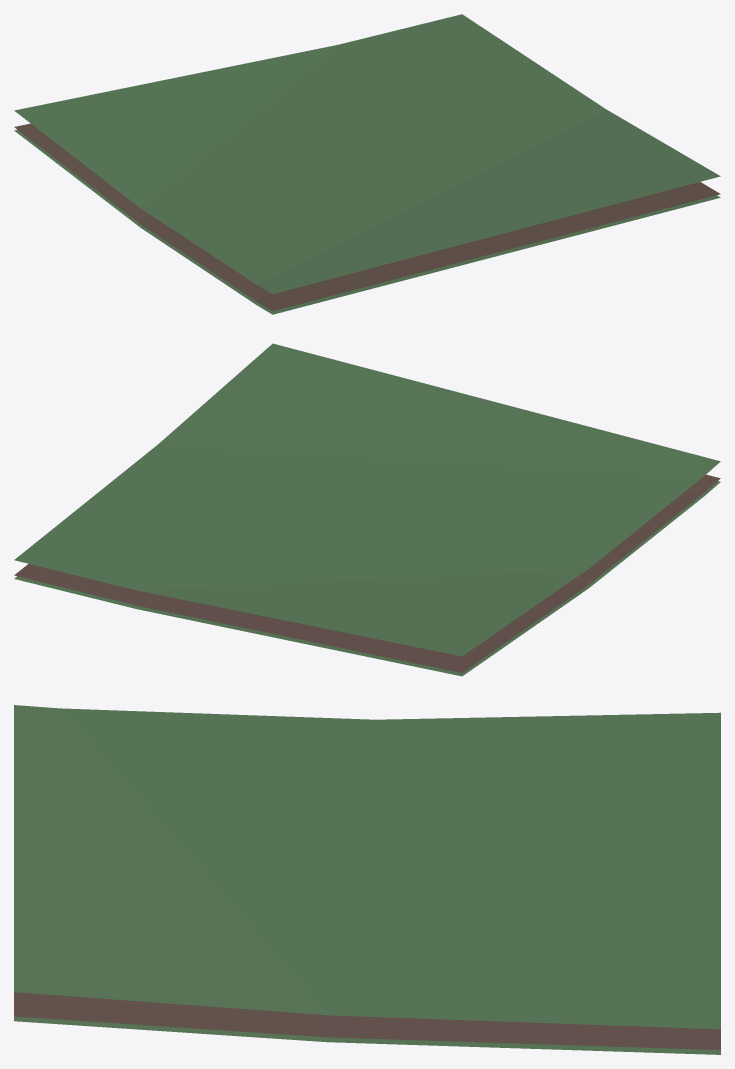
File: cell_225.obj
3 views of the same model, one above another, from view 1: azimuth 30°, elevation 25°; view 2: azimuth 150°, elevation 25°; view 3: azimuth 270°, elevation 25° (orthographic). The views are drawn at different scales.
Bounding box in the file's own units: 1 × 0.0987 × 1.
